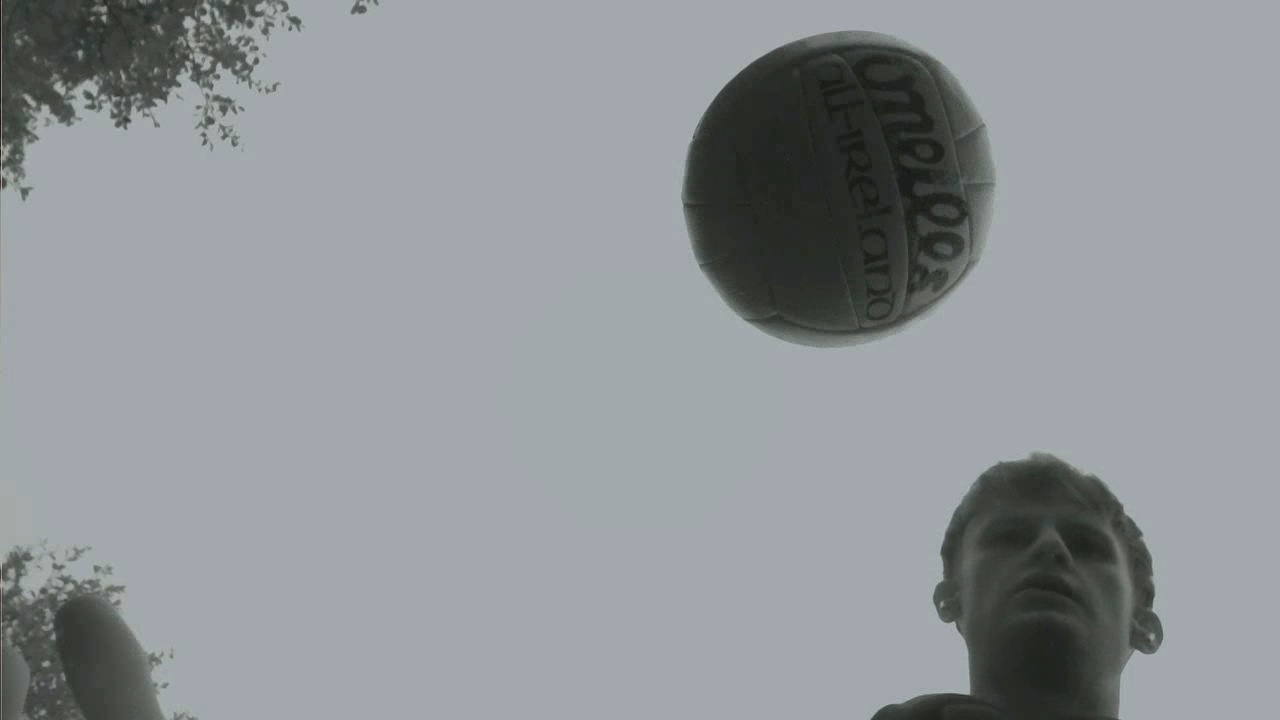Football-Spotter: (685, 33, 992, 344)
